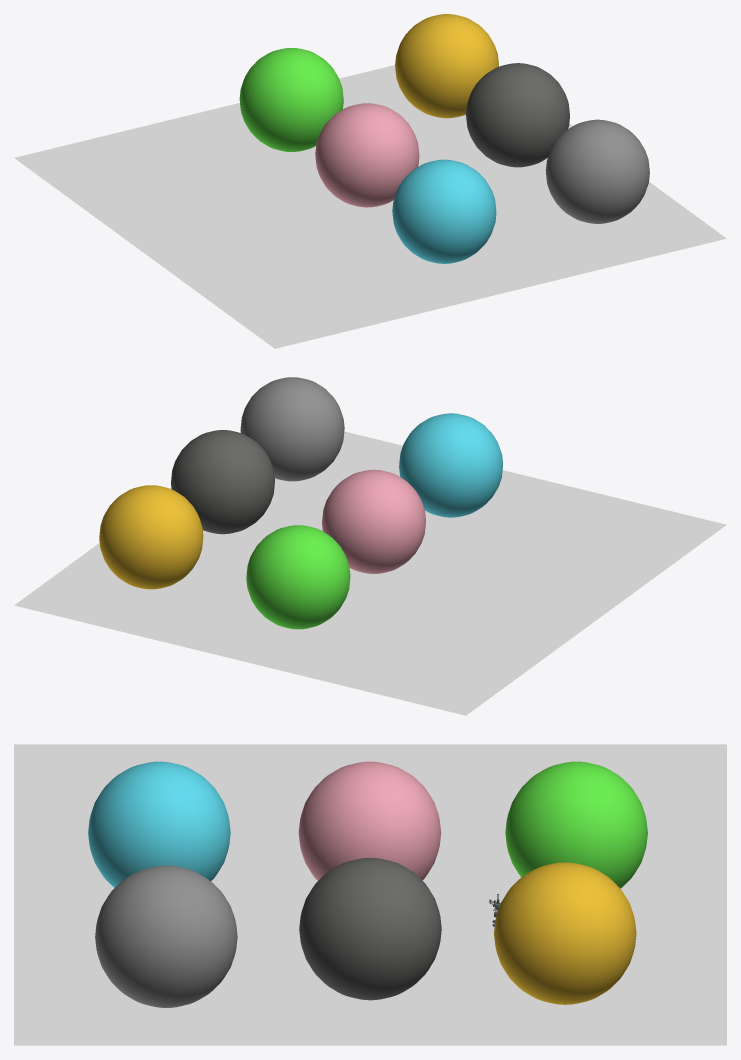
The model's file is look.glb.
The picture shows the model from 3 angles, top to bottom: view 1: azimuth 30°, elevation 25°; view 2: azimuth 150°, elevation 25°; view 3: azimuth 270°, elevation 25°; orthographic projection. The views are drawn at different scales.
Parts seen in each view (by area): view 1: Plane, Sphere.005, Sphere.002, Sphere, Sphere.003, Sphere.004, Sphere.001; view 2: Plane, Sphere.001, Sphere.004, Sphere.005, Sphere.003, Sphere, Sphere.002; view 3: Plane, Sphere.001, Sphere, Sphere.002, Sphere.005, Sphere.004, Sphere.003.
Part boxes in pixels (x1,y1,x2,y2): Plane: (14, 65, 726, 348); Sphere.005: (392, 159, 496, 263); Sphere.002: (545, 119, 649, 223); Sphere: (466, 63, 569, 167); Sphere.003: (315, 103, 419, 207); Sphere.004: (239, 48, 343, 151); Sphere.001: (395, 14, 498, 118); Plane: (14, 431, 726, 715); Sphere.001: (99, 485, 203, 589); Sphere.004: (246, 525, 350, 629); Sphere.005: (399, 413, 502, 517); Sphere.003: (322, 469, 425, 573); Sphere: (171, 430, 274, 534); Sphere.002: (240, 377, 344, 481); Plane: (14, 744, 726, 1045); Sphere.001: (494, 862, 636, 1004); Sphere: (299, 858, 441, 1000); Sphere.002: (95, 865, 237, 1007); Sphere.005: (88, 761, 230, 887); Sphere.004: (505, 761, 647, 888); Sphere.003: (298, 761, 441, 880).
Bounding box in the file's own units: 10 × 2.07 × 10.
Materials: 7 (1 with a texture image).
